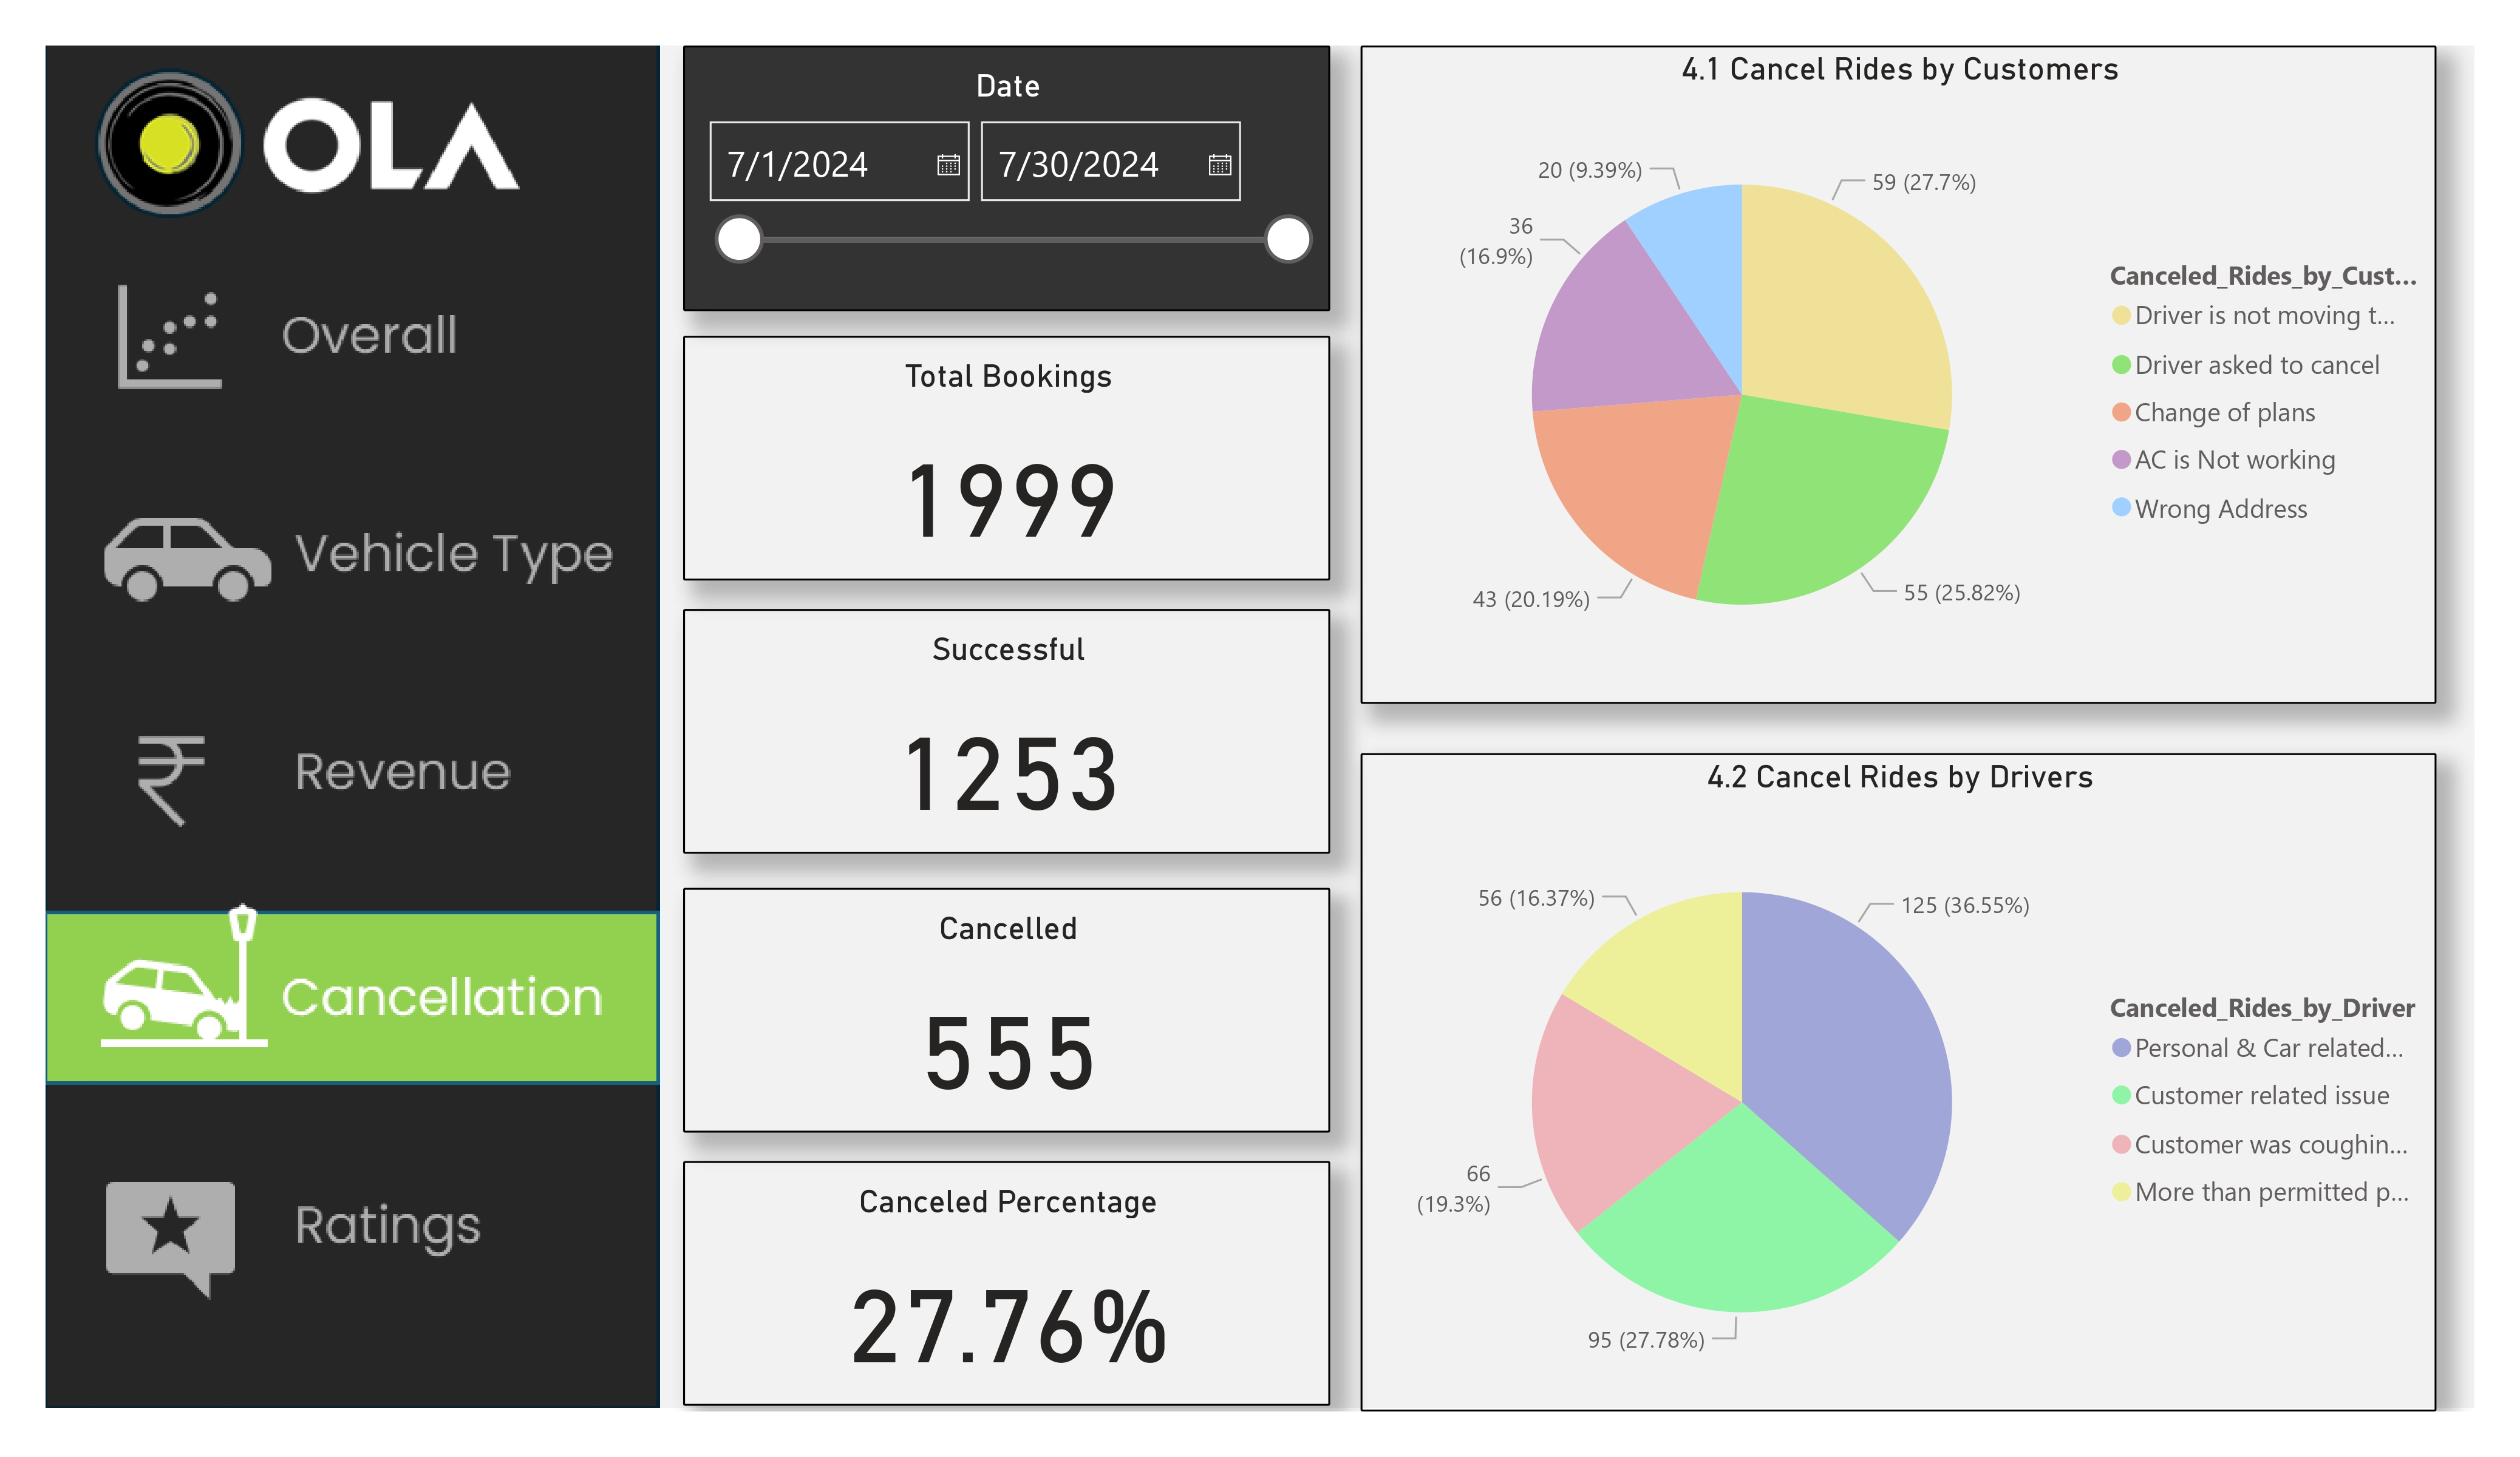

This screenshot's page, from the dashboard's own definition file:
{"tool":"powerbi","page":{"name":"Cancellation","canvas":[1280,720],"ordinal":3},"visuals":[{"type":"actionButton","box":[0,105.1,324,96.5],"z":0},{"type":"actionButton","box":[0,218.9,322.6,89.3],"z":1000},{"type":"actionButton","box":[0,329.8,322.6,93.6],"z":2000},{"type":"actionButton","box":[0,568.8,322.6,97.9],"z":3000},{"type":"pieChart","title":"4.1 Cancel Rides by Customers","fields":{"Category":["July.Canceled_Rides_by_Customer"],"Y":["CountNonNull(July.Canceled_Rides_by_Customer)"]},"box":[692.6,0,567.4,347],"z":4000},{"type":"pieChart","title":"4.2 Cancel Rides by Drivers","fields":{"Category":["July.Canceled_Rides_by_Driver"],"Y":["CountNonNull(July.Canceled_Rides_by_Driver)"]},"box":[692.6,373,567.4,347],"z":5000},{"type":"slicer","title":"Date","fields":{"Values":["July.Date"]},"box":[335.5,0,341.3,139.7],"z":6000},{"type":"card","title":"Total Bookings","fields":{"Values":["Count(July.Booking_ID)"]},"box":[335.5,152.6,341.3,129.6],"z":7000},{"type":"card","title":"Successful","fields":{"Values":["Count(July.Booking_ID)"]},"box":[335.5,296.6,341.3,129.6],"z":8000},{"type":"card","title":"Cancelled","fields":{"Values":["Count(July.Booking_ID)"]},"box":[335.5,443.5,341.3,129.6],"z":9000},{"type":"card","title":"Canceled Percentage","fields":{"Values":["July.CancelPercentage"]},"box":[335.5,587.5,341.3,129.6],"z":10000}]}

Visuals, with their boxes on the page's 1280x720 design canvas (x1, y1, x2, y2). These are canvas units, not pixel positions in the 2520x1457 screenshot, which may show the page scaled, cropped or inside an application window:
actionButton: locate(0, 105, 324, 202)
actionButton: locate(0, 219, 323, 308)
actionButton: locate(0, 330, 323, 423)
actionButton: locate(0, 569, 323, 667)
"4.1 Cancel Rides by Customers" pieChart: locate(693, 0, 1260, 347)
"4.2 Cancel Rides by Drivers" pieChart: locate(693, 373, 1260, 720)
"Date" slicer: locate(336, 0, 677, 140)
"Total Bookings" card: locate(336, 153, 677, 282)
"Successful" card: locate(336, 297, 677, 426)
"Cancelled" card: locate(336, 444, 677, 573)
"Canceled Percentage" card: locate(336, 588, 677, 717)
